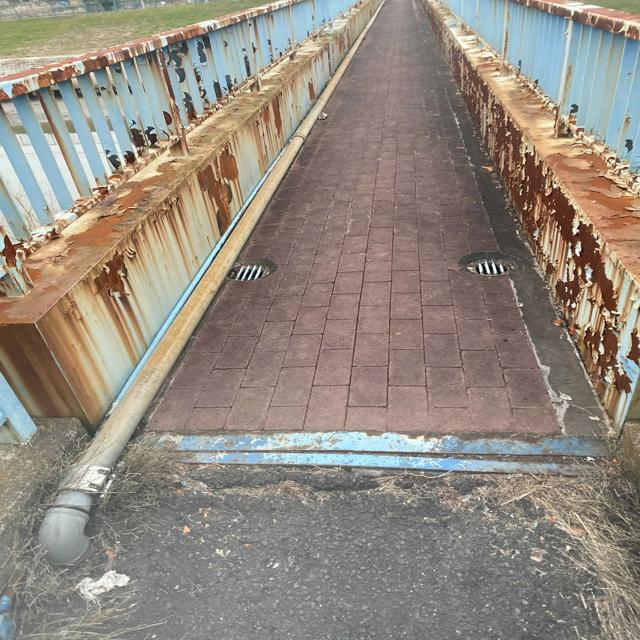corrosion: (19, 6, 304, 420), (449, 18, 634, 416)
